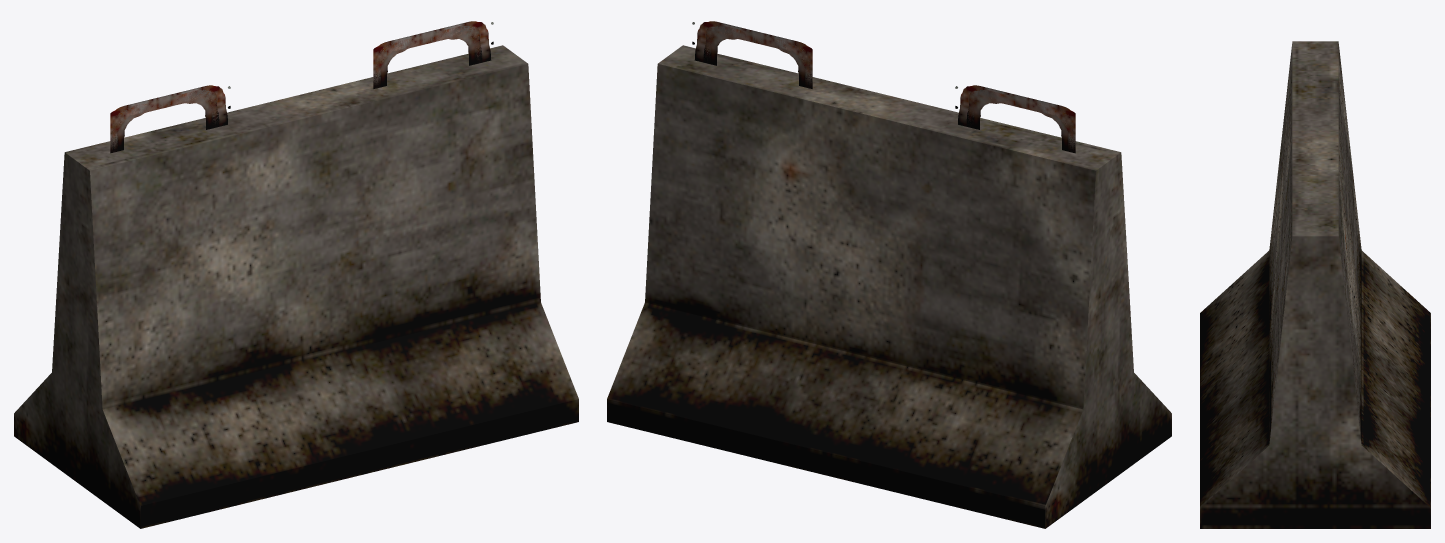
Rendered from ConcreteBarrier.fbx.
3 views of the same model, side by side, from view 1: azimuth 30°, elevation 25°; view 2: azimuth 150°, elevation 25°; view 3: azimuth 270°, elevation 25° (orthographic). The views are drawn at different scales.
Visible parts, largest first — view 1: ConcreteBarrier; view 2: ConcreteBarrier; view 3: ConcreteBarrier.
Boxes of the visible parts, left/top/right/bottom form: ConcreteBarrier: left=14, top=21, right=578, bottom=528; ConcreteBarrier: left=607, top=21, right=1171, bottom=528; ConcreteBarrier: left=1200, top=41, right=1430, bottom=528.
Bounding box in the file's own units: 200 × 160 × 100.
